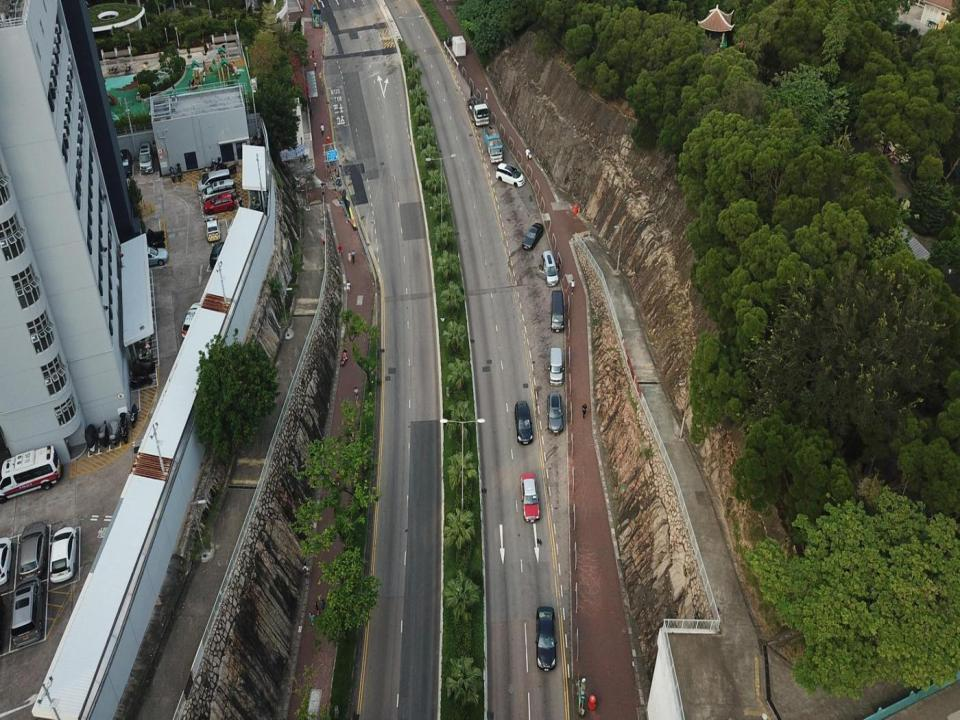car: (18, 521, 48, 581), (50, 526, 78, 583), (535, 606, 557, 670), (520, 473, 540, 522), (181, 302, 206, 339), (496, 162, 524, 187), (521, 223, 544, 251), (136, 246, 168, 266), (0, 537, 13, 586), (204, 193, 234, 214), (117, 148, 133, 178), (204, 215, 222, 241)
truck: (466, 89, 489, 126), (483, 123, 502, 163)
van: (0, 445, 61, 503), (11, 576, 45, 648), (201, 178, 237, 204), (514, 401, 533, 444), (198, 169, 230, 194), (538, 250, 558, 287), (546, 393, 564, 433), (549, 290, 566, 332), (548, 348, 564, 386), (209, 242, 228, 268), (138, 142, 153, 174)
